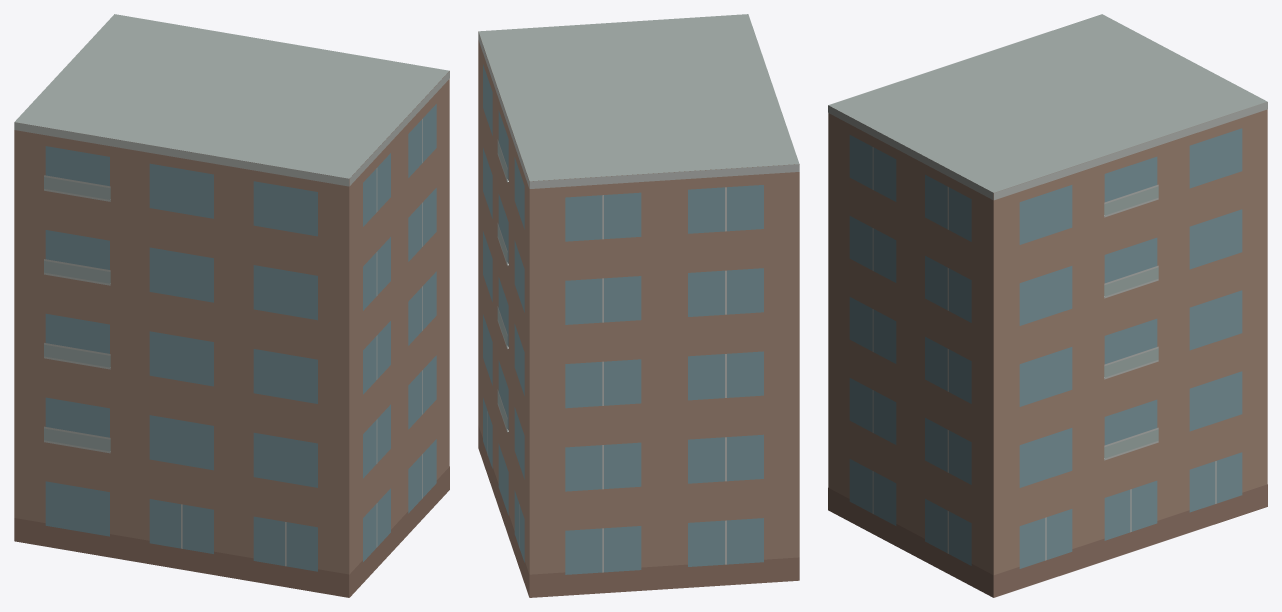
Rendered from survey-upis-32535831.glb.
3 views of the same model, side by side, from view 1: azimuth 30°, elevation 25°; view 2: azimuth 150°, elevation 25°; view 3: azimuth 270°, elevation 25° (orthographic). The views are drawn at different scales.
Visible parts, largest first — view 1: survey-upis-32535831.tmp; view 2: survey-upis-32535831.tmp; view 3: survey-upis-32535831.tmp.
Boxes of the visible parts, x1,y1,x2,y2 form: survey-upis-32535831.tmp: (14, 14, 449, 597); survey-upis-32535831.tmp: (478, 14, 799, 597); survey-upis-32535831.tmp: (828, 14, 1267, 597).
Bounding box in the file's own units: 12.32 × 13 × 12.8.
